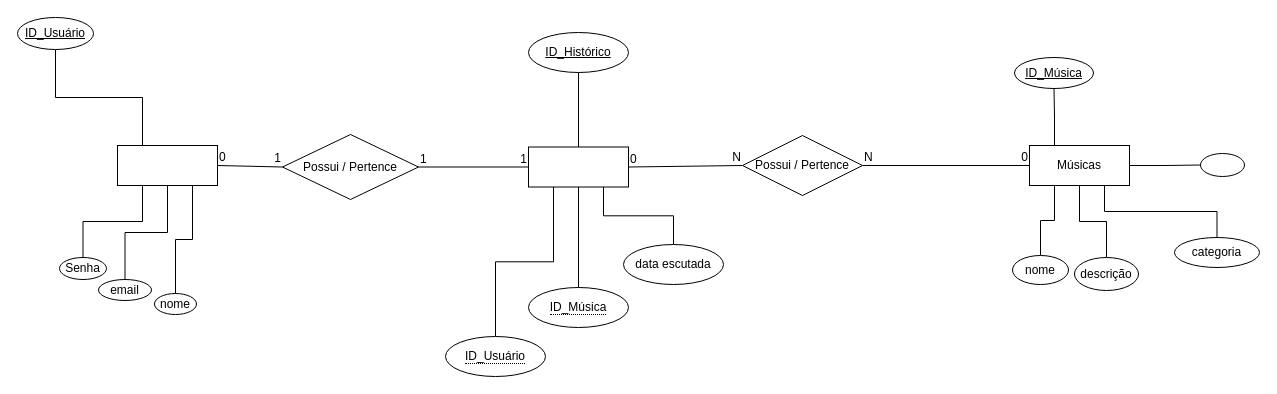
The diagram is 1277 pixels wide and 394 high, and some of its shapes have lost their labels. The centre of each missing label's shape, as x and y in pixels:
Histórico de Músicas: the point at 578,166
Perfil do Usuário: the point at 167,165
url: the point at 1222,164
